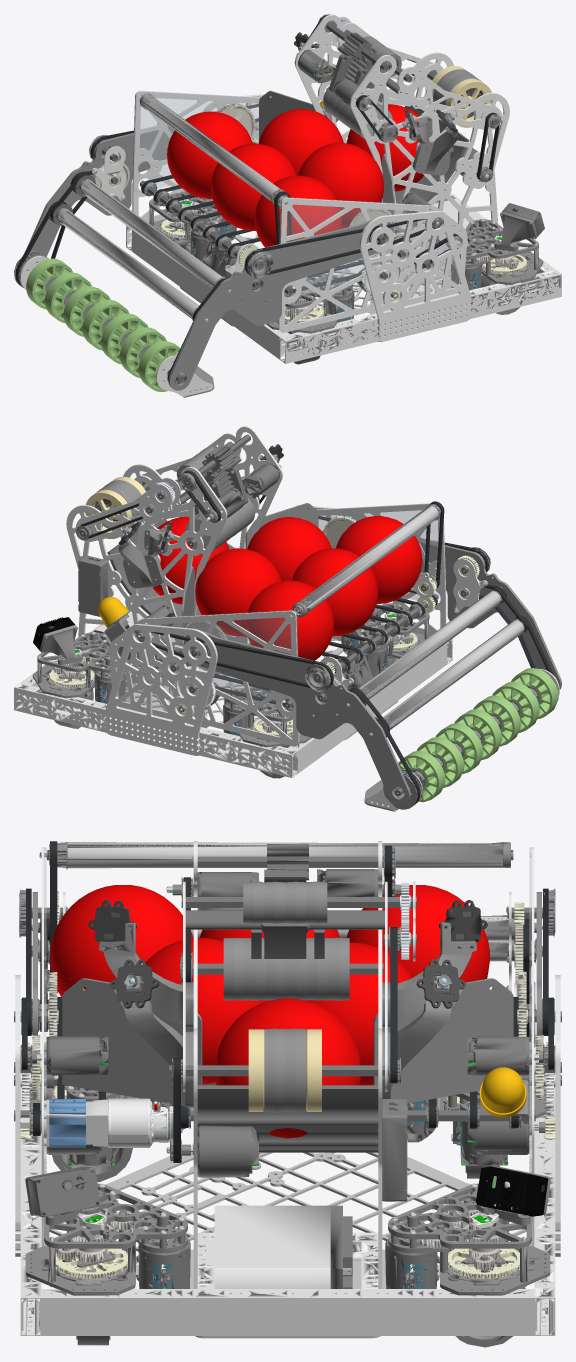
File: hero-multiclass-6731.glb
3 renders of one model, top to bottom at view 1: azimuth 30°, elevation 25°; view 2: azimuth 150°, elevation 25°; view 3: azimuth 270°, elevation 25°, orthographic. The views are drawn at different scales.
Visible parts, largest first — view 1: frame, intake, roller-main, hood, bubble-1, bubble-3, bubble-4, bubble-2, bubble-5, roller-stub1, roller-stub2, flywheel (+2 smaller); view 2: frame, intake, roller-main, bubble-5, hood, bubble-3, bubble-4, bubble-2, bubble-1, roller-stub2, roller-stub1, flywheel (+2 smaller); view 3: frame, hood, flywheel, feeder, intake, bubble-2, bubble-0, bubble-3, bubble-1, bubble-5, roller-stub2, bubble-4.
Part boxes in pixels (left/top/right/bottom): frame: left=126, top=14, right=561, bottom=364; intake: left=14, top=111, right=393, bottom=397; roller-main: left=26, top=258, right=183, bottom=391; hood: left=331, top=16, right=502, bottom=130; bubble-1: left=298, top=143, right=383, bottom=228; bubble-3: left=167, top=111, right=252, bottom=198; bubble-4: left=211, top=143, right=296, bottom=230; bubble-2: left=254, top=175, right=341, bottom=247; bubble-5: left=258, top=109, right=343, bottom=175; roller-stub1: left=56, top=208, right=208, bottom=321; roller-stub2: left=79, top=179, right=230, bottom=292; flywheel: left=427, top=66, right=497, bottom=127; frame: left=14, top=426, right=452, bottom=778; intake: left=183, top=540, right=561, bottom=811; roller-main: left=395, top=668, right=558, bottom=802; bubble-5: left=195, top=548, right=281, bottom=636; hood: left=75, top=433, right=241, bottom=541; bubble-3: left=246, top=580, right=333, bottom=660; bubble-4: left=292, top=548, right=378, bottom=636; bubble-2: left=336, top=516, right=422, bottom=603; bubble-1: left=247, top=517, right=331, bottom=580; roller-stub2: left=346, top=586, right=506, bottom=706; roller-stub1: left=369, top=616, right=529, bottom=736; flywheel: left=80, top=476, right=149, bottom=538; frame: left=14, top=841, right=561, bottom=1347; hood: left=181, top=869, right=416, bottom=1091; flywheel: left=169, top=1028, right=401, bottom=1112; feeder: left=180, top=937, right=383, bottom=1000; intake: left=19, top=888, right=555, bottom=1047; bubble-2: left=50, top=885, right=193, bottom=997; bubble-0: left=215, top=998, right=360, bottom=1138; bubble-3: left=346, top=885, right=490, bottom=982; bubble-1: left=146, top=938, right=270, bottom=1084; bubble-5: left=305, top=942, right=412, bottom=1085; roller-stub2: left=31, top=915, right=542, bottom=940; bubble-4: left=199, top=929, right=340, bottom=941.
Size of the model in its own units: 0.936 by 0.5701 by 0.6636.
